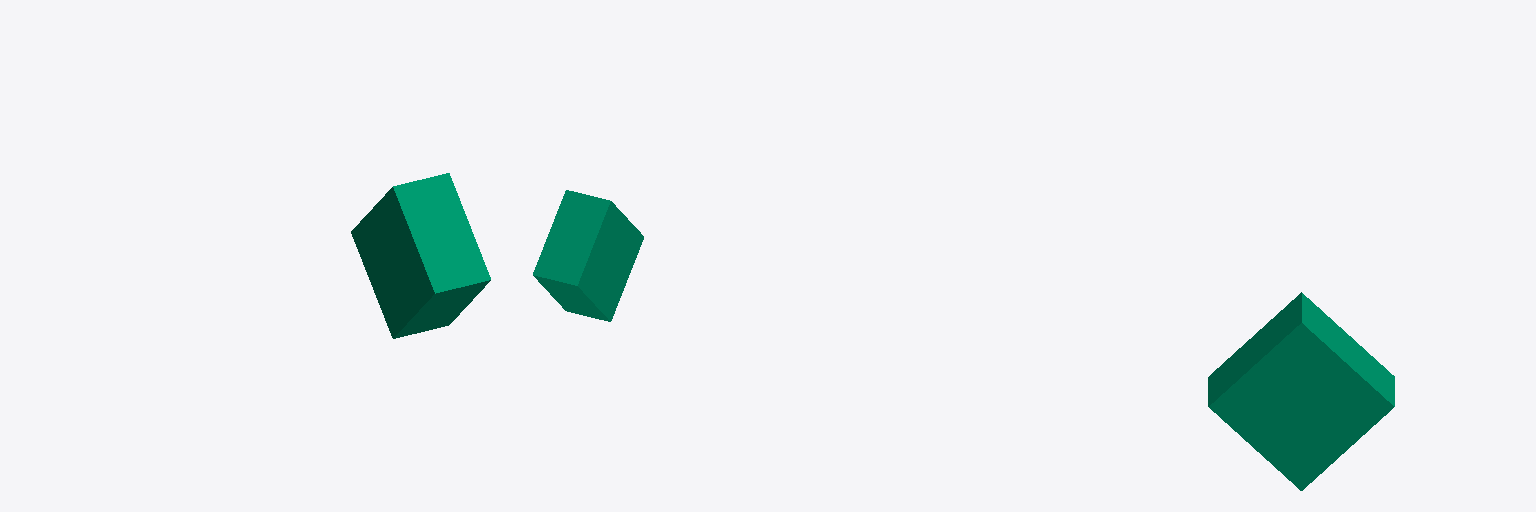
robot.urdf — panda:
<?xml version="1.0" ?>
<robot name="panda">

  <link name="panda_link0">
    <visual>
      <geometry>
        <mesh filename="../../urdf/franka_description/meshes/visual/link0.obj"/>
      </geometry>
    </visual>
    <collision>
      <geometry>
        <mesh filename="../../urdf/franka_description/meshes/collision/link0.stl"/>
      </geometry>
    </collision>
    <inertial>
      <origin rpy="0 0 0" xyz="-0.041018 -0.00014 0.049974"/>
      <mass value="0.629769"/>
      <inertia ixx="0.00315" ixy="8.2904e-07" ixz="0.00015" iyy="0.00388" iyz="8.2299e-06" izz="0.004285"/>
    </inertial>
  </link>

  <joint name="panda_joint1" type="revolute">
    <origin rpy="0 0 0" xyz="0 0 0.333"/>
    <parent link="panda_link0"/>
    <child link="panda_link1"/>
    <axis xyz="0 0 1"/>
    <limit effort="87" lower="-2.8973" upper="2.8973" velocity="2.1750"/>
    <dynamics damping="0.0" friction="0.0"/>
  </joint>

  <link name="panda_link1">
    <visual>
      <geometry>
        <mesh filename="../../urdf/franka_description/meshes/visual/link1.obj"/>
      </geometry>
    </visual>
    <collision>
      <geometry>
        <mesh filename="../../urdf/franka_description/meshes/collision/link1.stl"/>
      </geometry>
    </collision>
    <inertial>
      <origin rpy="0 0 0" xyz="0.003875 0.002081 -0.04762"/>
      <mass value="4.970684"/>
      <inertia ixx="0.70337" ixy="-0.000139" ixz="0.006772" iyy="0.70661" iyz="0.019169" izz="0.009117"/>
    </inertial>
  </link>

  <joint name="panda_joint2" type="revolute">
    <origin rpy="-1.5707963267948966 0 0" xyz="0 0 0"/>
    <parent link="panda_link1"/>
    <child link="panda_link2"/>
    <axis xyz="0 0 1"/>
    <limit effort="87" lower="-1.7628" upper="1.7628" velocity="2.1750"/>
    <dynamics damping="0.0" friction="0.0"/>
  </joint>
  
  <link name="panda_link2">
    <visual>
      <geometry>
        <mesh filename="../../urdf/franka_description/meshes/visual/link2.obj"/>
      </geometry>
    </visual>
    <collision>
      <geometry>
        <mesh filename="../../urdf/franka_description/meshes/collision/link2.stl"/>
      </geometry>
    </collision>
    <inertial>
      <origin rpy="0 0 0" xyz="-0.003141 -0.02872  0.003495"/>
      <mass value="0.646926"/>
      <inertia ixx="0.007962" ixy="-0.003925" ixz="0.010254" iyy="0.02811" iyz="0.000704" izz="0.025995"/>
    </inertial>
  </link>

  <joint name="panda_joint3" type="revolute">
    <origin rpy="1.5707963267948966 0 0" xyz="0 -0.316 0"/>
    <parent link="panda_link2"/>
    <child link="panda_link3"/>
    <axis xyz="0 0 1"/>
    <limit effort="87" lower="-2.8973" upper="2.8973" velocity="2.1750"/>
    <dynamics damping="0.0" friction="0.0"/>
  </joint>
  
  <link name="panda_link3">
    <visual>
      <geometry>
        <mesh filename="../../urdf/franka_description/meshes/visual/link3.obj"/>
      </geometry>
    </visual>
    <collision>
      <geometry>
        <mesh filename="../../urdf/franka_description/meshes/collision/link3.stl"/>
      </geometry>
    </collision>
    <inertial>
      <origin rpy="0 0 0" xyz="2.7518e-02 3.9252e-02 -6.6502e-02"/>
      <mass value="3.228604"/>
      <inertia ixx="0.037242" ixy="-0.004761" ixz="-0.011396" iyy="0.036155" iyz="-0.012805" izz="0.01083"/>
    </inertial>
  </link>

  <joint name="panda_joint4" type="revolute">
    <origin rpy="1.5707963267948966 0 0" xyz="0.0825 0 0"/>
    <parent link="panda_link3"/>
    <child link="panda_link4"/>
    <axis xyz="0 0 1"/>
    <limit effort="87" lower="-3.0718" upper="-0.0698" velocity="2.1750"/>
    <dynamics damping="0.0" friction="0.0"/>
  </joint>
  
  <link name="panda_link4">
    <visual>
      <geometry>
        <mesh filename="../../urdf/franka_description/meshes/visual/link4.obj"/>
      </geometry>
    </visual>
    <collision>
      <geometry>
        <mesh filename="../../urdf/franka_description/meshes/collision/link4.stl"/>
      </geometry>
    </collision>
    <inertial>
      <origin rpy="0 0 0" xyz="-5.317e-02 1.04419e-01 2.7454e-02"/>
      <mass value="3.587895"/>
      <inertia ixx="0.025853" ixy="0.007796" ixz="-0.001332" iyy="0.019552" iyz="0.008641" izz="0.028323"/>
    </inertial>
  </link>

  <joint name="panda_joint5" type="revolute">
    <origin rpy="-1.5707963267948966 0 0" xyz="-0.0825 0.384 0"/>
    <parent link="panda_link4"/>
    <child link="panda_link5"/>
    <axis xyz="0 0 1"/>
    <limit effort="12" lower="-2.8973" upper="2.8973" velocity="2.6100"/>
    <dynamics damping="0.0" friction="0.0"/>
  </joint>
  
  <link name="panda_link5">
    <visual>
      <geometry>
        <mesh filename="../../urdf/franka_description/meshes/visual/link5.obj"/>
      </geometry>
    </visual>
    <collision>
      <geometry>
        <mesh filename="../../urdf/franka_description/meshes/collision/link5.stl"/>
      </geometry>
    </collision>
    <inertial>
      <origin rpy="0 0 0" xyz="-1.1953e-02 4.1065e-02 -3.8437e-02"/>
      <mass value="1.225946"/>
      <inertia ixx="0.035549" ixy="-0.002117" ixz="-0.004037" iyy="0.029474" iyz="0.000229" izz="0.008627"/>
    </inertial>
  </link>

  <joint name="panda_joint6" type="revolute">
    <origin rpy="1.5707963267948966 0 0" xyz="0 0 0"/>
    <parent link="panda_link5"/>
    <child link="panda_link6"/>
    <axis xyz="0 0 1"/>
    <limit effort="12" lower="-0.0175" upper="3.7525" velocity="2.6100"/>
    <dynamics damping="0.0" friction="0.0"/>
  </joint>
  
  <link name="panda_link6">
    <visual>
      <geometry>
        <mesh filename="../../urdf/franka_description/meshes/visual/link6.obj"/>
      </geometry>
    </visual>
    <collision>
      <geometry>
        <mesh filename="../../urdf/franka_description/meshes/collision/link6.stl"/>
      </geometry>
    </collision>
    <inertial>
      <origin rpy="0 0 0" xyz="6.0149e-02 -1.4117e-02 -1.0517e-02"/>
      <mass value="1.666555"/>
      <inertia ixx="0.001964" ixy="0.000109" ixz="-0.001158" iyy="0.004354" iyz="0.000341" izz="0.005433"/>
    </inertial>
  </link>

  <joint name="panda_joint7" type="revolute">
    <origin rpy="1.5707963267948966 0 0" xyz="0.088 0 0"/>
    <parent link="panda_link6"/>
    <child link="panda_link7"/>
    <axis xyz="0 0 1"/>
    <limit effort="12" lower="-2.8973" upper="2.8973" velocity="2.6100"/>
    <dynamics damping="0.0" friction="0.0"/>
  </joint>
  
  <link name="panda_link7">
    <visual>
      <geometry>
        <mesh filename="../../urdf/franka_description/meshes/visual/link7.obj"/>
      </geometry>
    </visual>
    <collision>
      <geometry>
        <mesh filename="../../urdf/franka_description/meshes/collision/link7.stl"/>
      </geometry>
    </collision>
    <inertial>
      <origin rpy="0 0 0" xyz="1.0517e-02 -4.252e-03 6.1597e-02"/>
      <mass value="0.735522"/>
      <inertia ixx="0.012516" ixy="-0.000428" ixz="-0.001196" iyy="0.010027" iyz="-0.000741" izz="0.004815"/>
    </inertial>
  </link>

  <joint name="panda_hand_joint" type="fixed">
    <parent link="panda_link7"/>
    <child link="panda_hand"/>
    <origin rpy="0 0 -0.7853981633974483" xyz="0 0 0.111"/>
  </joint>
  
  <link name="panda_hand">
    <visual>
      <geometry>
        <mesh filename="../../urdf/franka_description/meshes/visual/hand.obj"/>
      </geometry>
    </visual>
    <collision>
      <geometry>
        <mesh filename="../../urdf/franka_description/meshes/collision/hand.stl"/>
      </geometry>
    </collision>
    <inertial>
      <origin rpy="0 0 0" xyz="-0.01 0 0.03"/>
      <mass value="0.73"/>
      <inertia ixx="0.001" ixy="0" ixz="0" iyy="0.0025" iyz="0" izz="0.0017"/>
    </inertial>
  </link>

  <joint name="camera_mount_joint" type="fixed">
    <parent link="panda_hand"/>
    <child link="camera_mount"/>
    <origin rpy="0 0 -1.5707963267948966" xyz="0 0 0"/>
  </joint>

  <link name="camera_mount">
    <visual>
      <origin rpy="0 0 0" xyz="0 0 0"/>
      <geometry>
        <mesh filename="../mesh/camera/d405_mount.obj"/>
      </geometry>
    </visual>
    <collision>
      <origin rpy="1.5707963267948966 0 0" xyz="0 0 0"/>
      <geometry>
        <mesh filename="../mesh/camera/d405_mount.obj"/>
      </geometry>
    </collision>
    <inertial>
      <mass value="0.023"/>
    </inertial>
  </link>

  <joint name="camera_joint" type="fixed">
    <parent link="panda_hand"/>
    <child link="camera"/>
    <origin rpy="0 0 0" xyz="0 0 0"/>
  </joint>

  <link name="camera">
    <visual>
      <origin rpy="0 0 3.14159265359" xyz="0.06 0.0 0.0115"/>
      <geometry>
        <box size="0.042 0.042 0.023"/>
      </geometry>
    </visual>
    <collision>
      <origin rpy="0 0 0" xyz="0.06 0.0 0.0115"/>
      <geometry>
        <box size="0.042 0.042 0.023"/>
      </geometry>
    </collision>
    <inertial>
      <mass value="0.060"/>
    </inertial>
  </link>

  <joint name="panda_finger_joint1" type="prismatic">
    <parent link="panda_hand"/>
    <child link="panda_leftfinger"/>
    <origin rpy="0 0 0" xyz="0 0 0.0584"/>
    <axis xyz="0 1 0"/>
    <limit effort="70" lower="0.0" upper="0.040" velocity="0.050"/>
    <dynamics damping="0.0" friction="5.0"/>
  </joint>

  <joint name="panda_finger_joint2" type="prismatic">
    <parent link="panda_hand"/>
    <child link="panda_rightfinger"/>
    <origin rpy="0 0 0" xyz="0 0 0.0584"/>
    <axis xyz="0 -1 0"/>
    <limit effort="70" lower="0.0" upper="0.040" velocity="0.050"/>
    <dynamics damping="0.0" friction="5.0"/>
  </joint>
  
  <link name="panda_leftfinger">
    <visual>
      <origin rpy="-1.5707963267948966 0 3.14159265359" xyz="0 0 0"/>
      <geometry>
        <mesh filename="../mesh/finray_finger/finray_finger_visual.obj"/>
      </geometry>
    </visual>
    <collision>
      <origin rpy="0 0 0" xyz="0.0 0.005 0.075183435"/>
      <geometry>
        <box size="0.0258 0.01 1.5036687e-01"/>
      </geometry>
    </collision>
    <collision>
      <origin rpy="0 0 0" xyz="0.0 0.015 0.06"/>
      <geometry>
        <box size="0.0258 0.01 0.12"/>
      </geometry>
    </collision>
    <collision>
      <origin rpy="0 0 0" xyz="0.0 0.025 0.035"/>
      <geometry>
        <box size="0.0258 0.01 0.07"/>
      </geometry>
    </collision>
    <inertial>
      <mass value="0.081"/>
    </inertial>
  </link>

  <link name="panda_rightfinger">
    <visual>
      <origin rpy="-1.5707963267948966 0 0" xyz="0 0 0"/>
      <geometry>
        <mesh filename="../mesh/finray_finger/finray_finger_visual.obj"/>
      </geometry>
    </visual>
    <collision>
      <origin rpy="0 0 0" xyz="0.0 -0.005 0.075183435"/>
      <geometry>
        <box size="0.0258 0.01 1.5036687e-01"/>
      </geometry>
    </collision>
    <collision>
      <origin rpy="0 0 0" xyz="0.0 -0.015 0.06"/>
      <geometry>
        <box size="0.0258 0.01 0.12"/>
      </geometry>
    </collision>
    <collision>
      <origin rpy="0 0 0" xyz="0.0 -0.025 0.035"/>
      <geometry>
        <box size="0.0258 0.01 0.07"/>
      </geometry>
    </collision>
    <inertial>
      <mass value="0.081"/>
    </inertial>
  </link>

  <!--Used for calculating pose and Jacobian.
  Joint connects hand to dummy link located at midpoint between centers of original fingerpads (when fingers are mirrored).-->
  <joint name="panda_fingertip_centered_joint" type="fixed">
      <parent link="panda_hand"/>
      <child link="panda_fingertip_centered"/>
      <origin rpy="0 0 0" xyz="0 0 0.1993"/>
  </joint>

  <link name="panda_fingertip_centered">
    <inertial>
      <origin rpy="0 0 0" xyz="0 0 0"/>
      <mass value="1.0e-6"/>
      <inertia ixx="1.0e-09" ixy="0" ixz="0" iyy="1.0e-09" iyz="0" izz="1.0e-09"/>
    </inertial>
  </link>

  <joint name="panda_leftfinger_tip_joint" type="fixed">
    <parent link="panda_leftfinger"/>
    <child link="panda_leftfinger_tip"/>
    <origin rpy="0 0 0" xyz="0.0 0.0015 0.14"/>
  </joint>
  <link name="panda_leftfinger_tip">
    <visual>
      <geometry>
        <sphere radius="0.000"/>
      </geometry>
      <material name="Vis"/>
    </visual>
  </link>

  <joint name="panda_rightfinger_tip_joint" type="fixed">
    <parent link="panda_rightfinger"/>
    <child link="panda_rightfinger_tip"/>
    <origin rpy="0 0 0" xyz="0.0 -0.0015 0.14"/>
  </joint>
  <link name="panda_rightfinger_tip">
    <visual>
      <geometry>
        <sphere radius="0.000"/>
      </geometry>
      <material name="Vis"/>
    </visual>
  </link>

</robot>

--- Render facts (derived) ---
3 views of the same robot in one strip: view 1: azimuth 30°, elevation 25°; view 2: azimuth 150°, elevation 25°; view 3: azimuth 270°, elevation 25° (orthographic).
Robot: panda — 16 links, 15 joints (7 revolute, 2 prismatic, 6 fixed); root link panda_link0; default pose: all joints at 0 but 1 set to mid-range because 0 is outside their limits (panda_joint4 = -1.57).
Links seen in each view (by area): view 1: camera; view 2: camera; view 3: camera.
Link boxes in pixels (x1,y1,x2,y2): camera: (351,173,490,338); camera: (533,190,643,321); camera: (1208,292,1394,490).
Bounding box of the posed robot: 0.1984 × 0.0732 × 0.0732 m (x, y, z).
0 mesh visuals loaded from 11 distinct referenced files (none loaded); not drawn: 12 (reference not matched to a file when rendering).